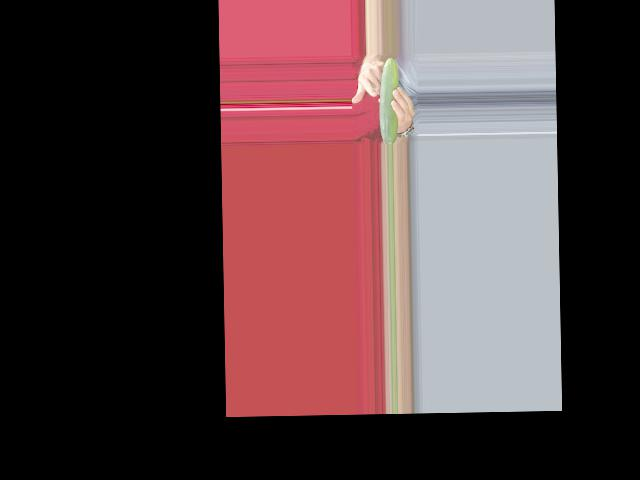cucumber: (378, 58, 400, 144)
